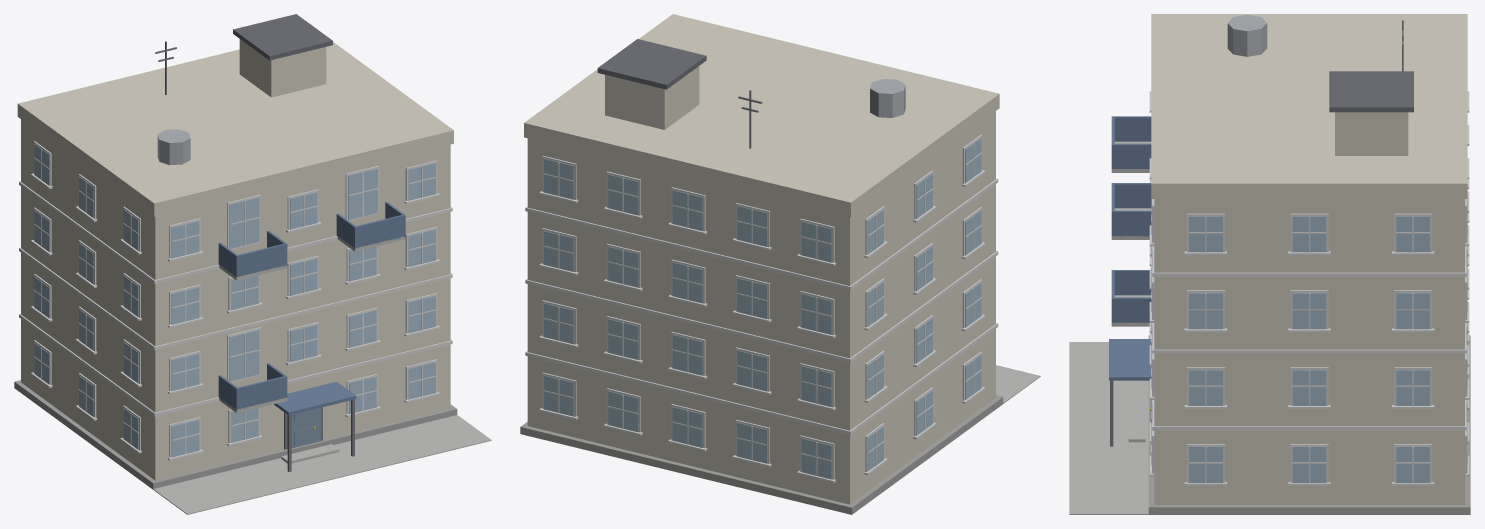
File: Apartman_07.glb
The picture shows the model from 3 angles, left to right: view 1: azimuth 30°, elevation 25°; view 2: azimuth 150°, elevation 25°; view 3: azimuth 270°, elevation 25°; orthographic projection. The views are drawn at different scales.
Visible parts, largest first — view 1: Apartman_07; view 2: Apartman_07; view 3: Apartman_07.
Part boxes in pixels (x1,y1,x2,y2): Apartman_07: (14, 14, 491, 514); Apartman_07: (520, 14, 1040, 514); Apartman_07: (1069, 14, 1470, 514).
Bounding box in the file's own units: 14.4 × 15.3 × 14.2.
